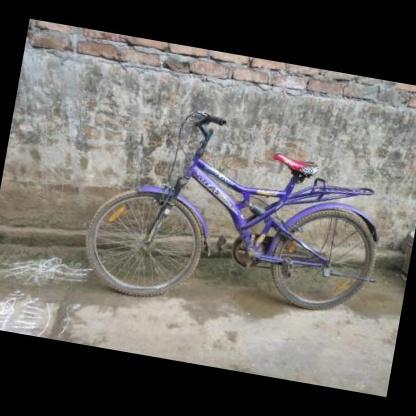Bicycle: (60, 96, 391, 326)
